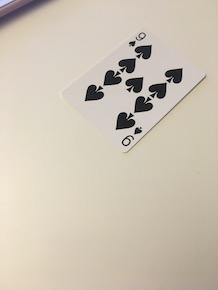NineOfSpades: (55, 27, 208, 153)
